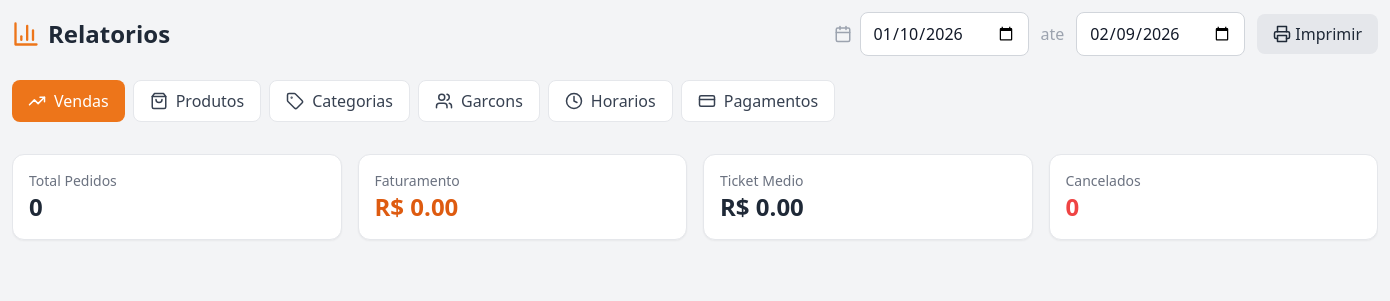
Test: Relatorios - Pagamentos tab › exibe mensagem de erro quando endpoint retorna erro
Click the button "Pagamentos" at point(758, 101), box [681,80,835,122]
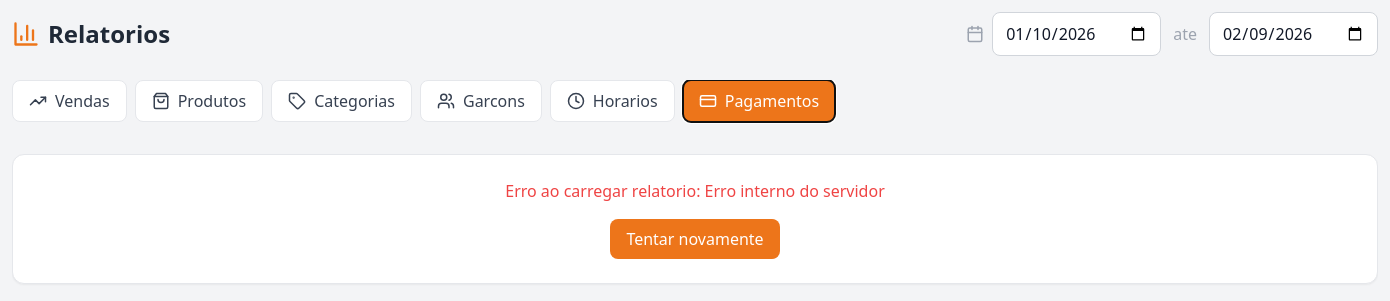
Expected: the text "Erro ao carregar relatorio: Erro interno do servidor" is shown, [505,180,885,202]
Expected: the button "Tentar novamente" is shown, [610,219,780,259]
